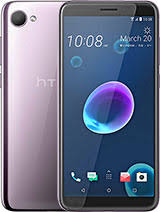htc: (58, 1, 160, 212), (1, 1, 59, 211)
